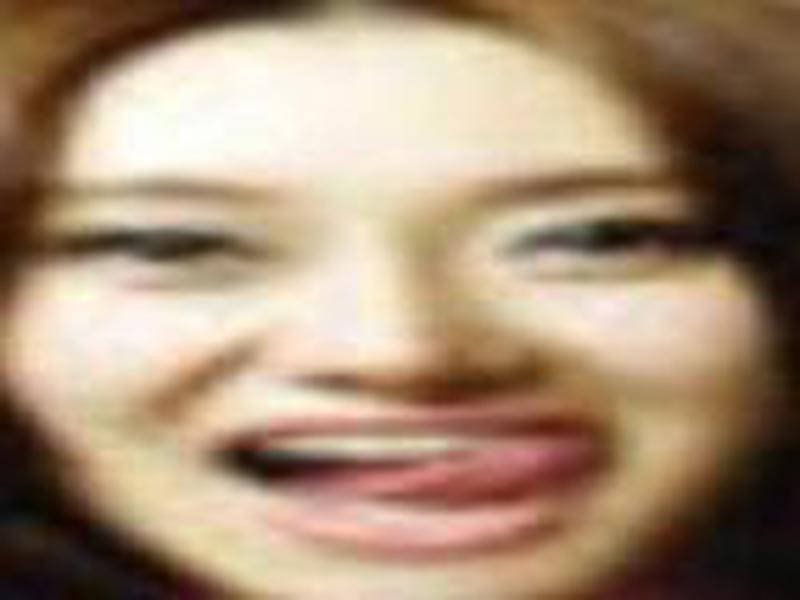without_mask: (23, 46, 772, 589)
